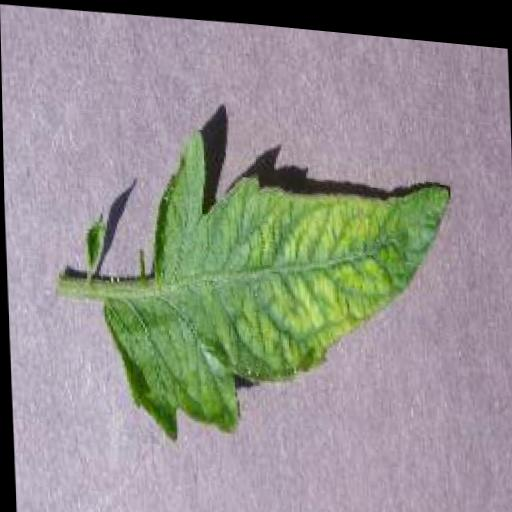Mosaic Virus: (94, 112, 463, 464)
